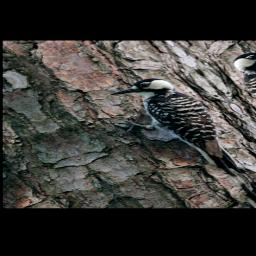Woodpecker: (78, 71, 256, 192)
